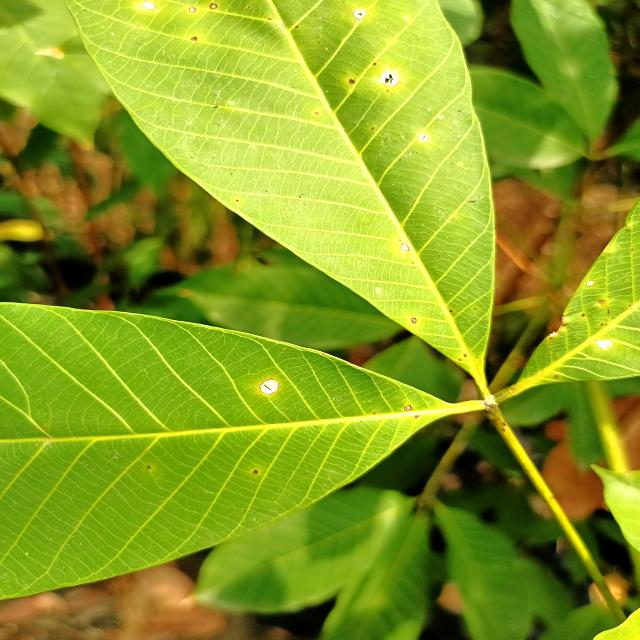Colletotrichum: (400, 243, 410, 252), (404, 404, 412, 412), (586, 280, 593, 287), (210, 4, 218, 10), (411, 317, 417, 324), (348, 80, 355, 84), (189, 8, 196, 12), (581, 313, 585, 317), (600, 323, 604, 326), (315, 112, 319, 115)
